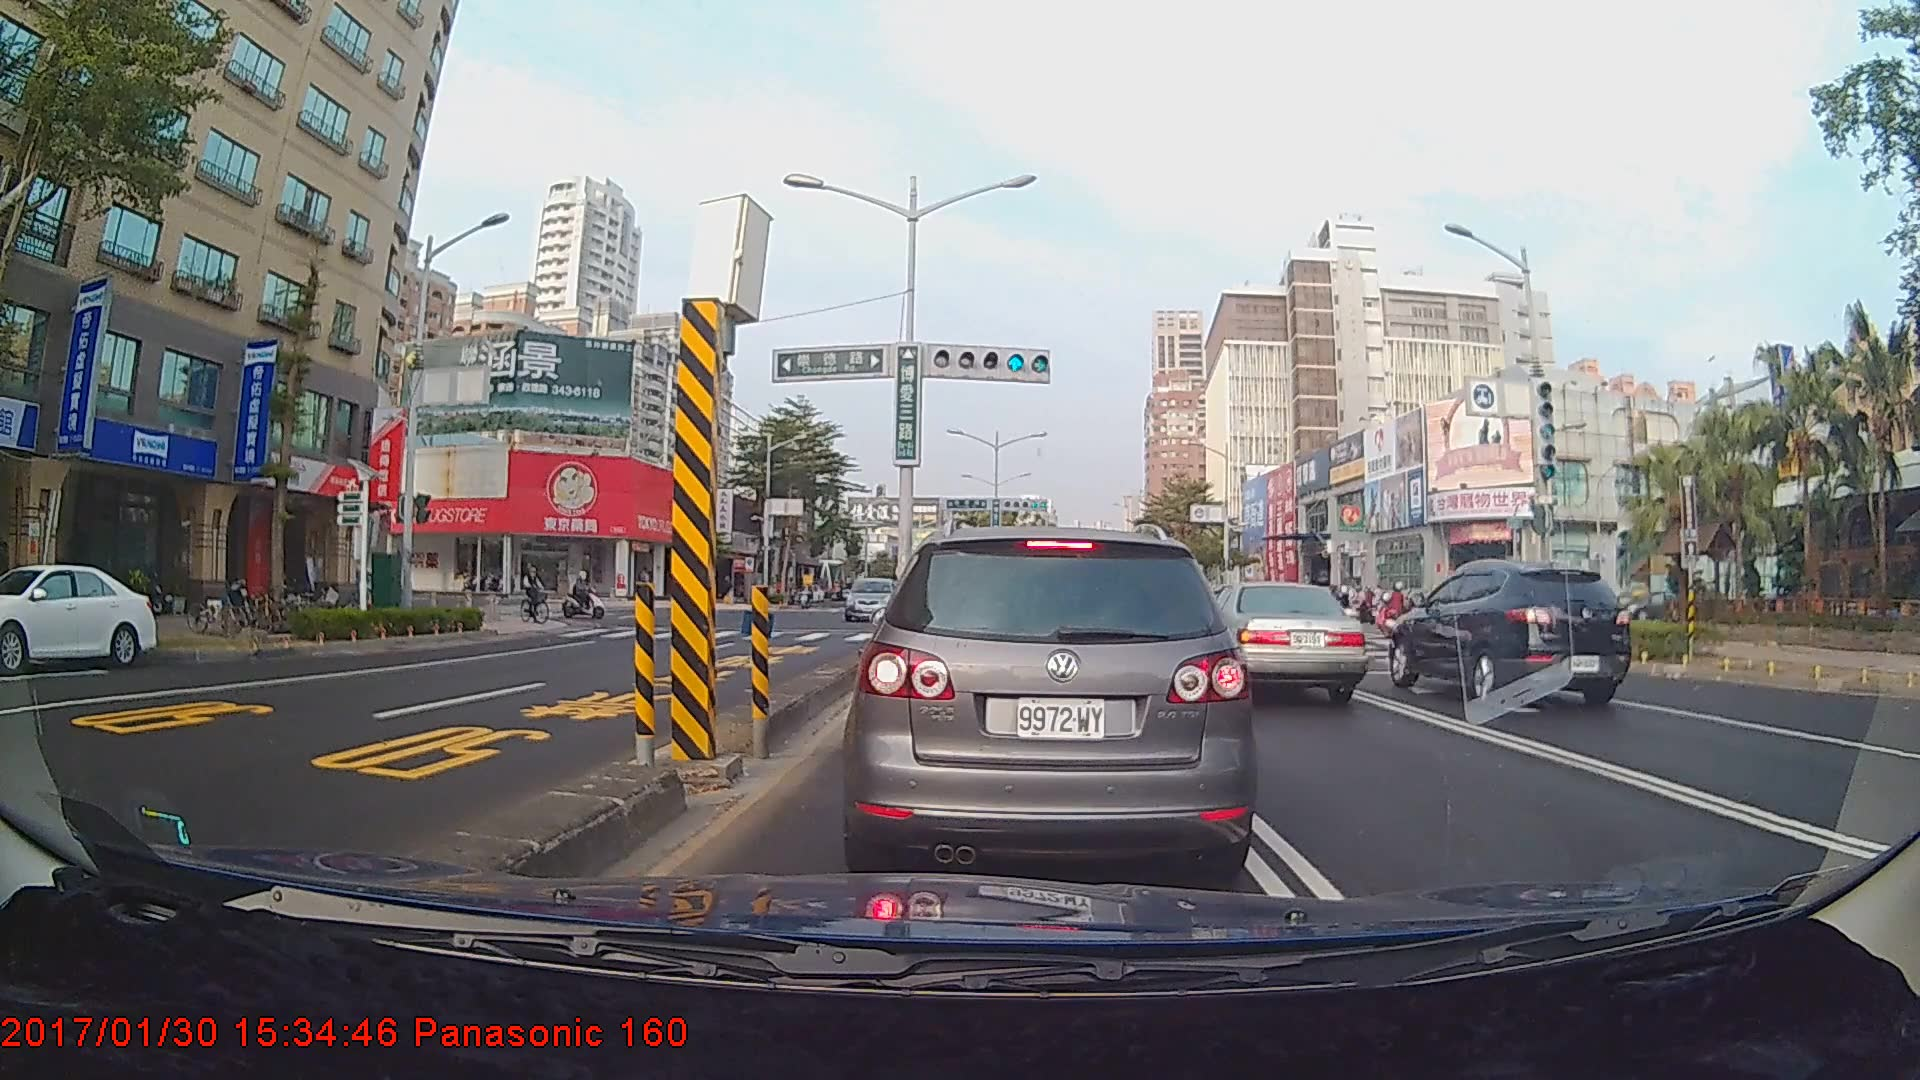rider: (518, 559, 561, 629), (564, 568, 615, 625), (1383, 582, 1415, 640)
vehicle: (857, 521, 1248, 880), (1388, 556, 1635, 707), (1181, 579, 1369, 710), (0, 561, 162, 671), (842, 574, 903, 620)
